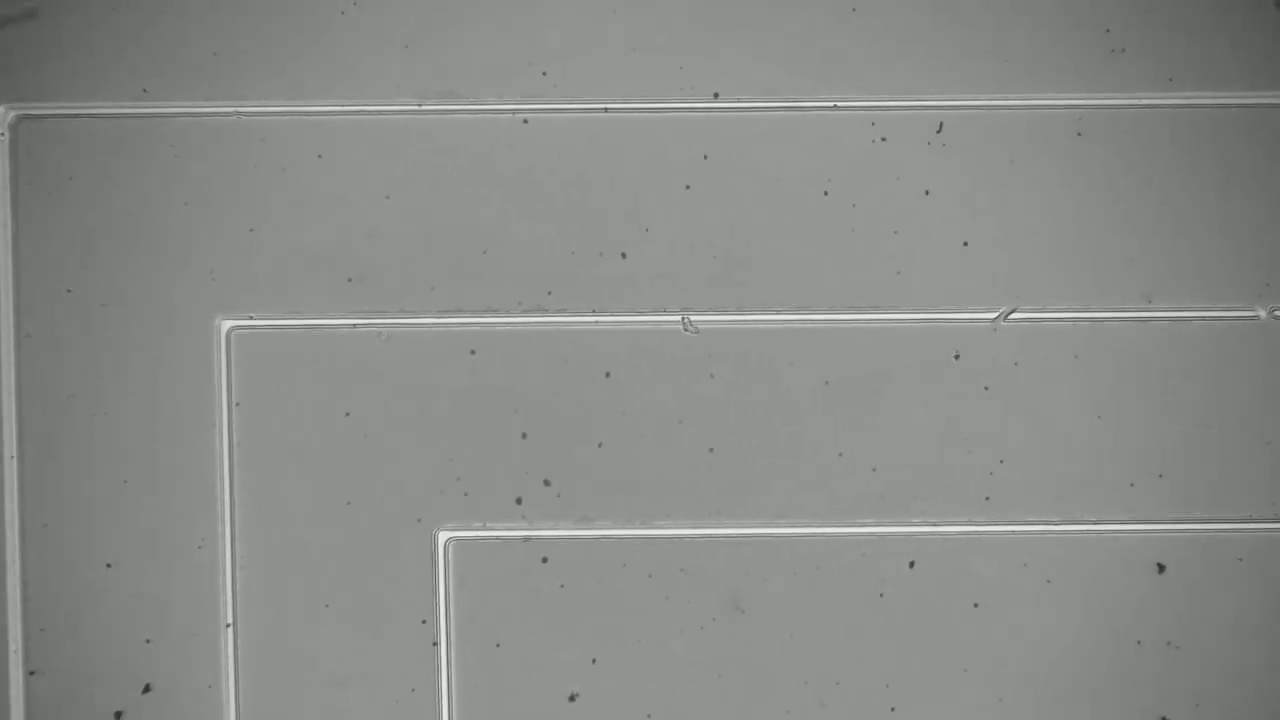open: (981, 298, 1031, 335), (1240, 296, 1280, 331)
stains_enbedded: (672, 303, 709, 345)
